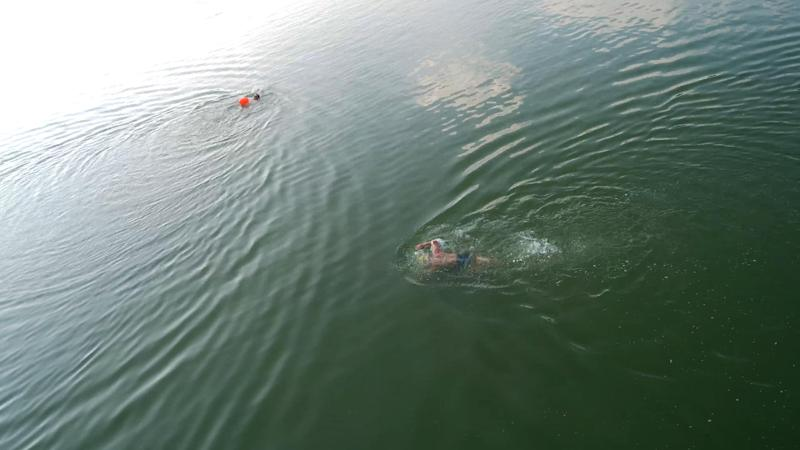swimmers: (412, 238, 489, 276)
